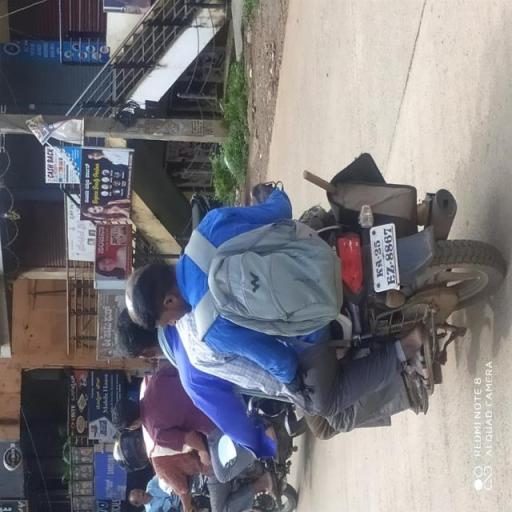tripple riding: (103, 174, 322, 435)
